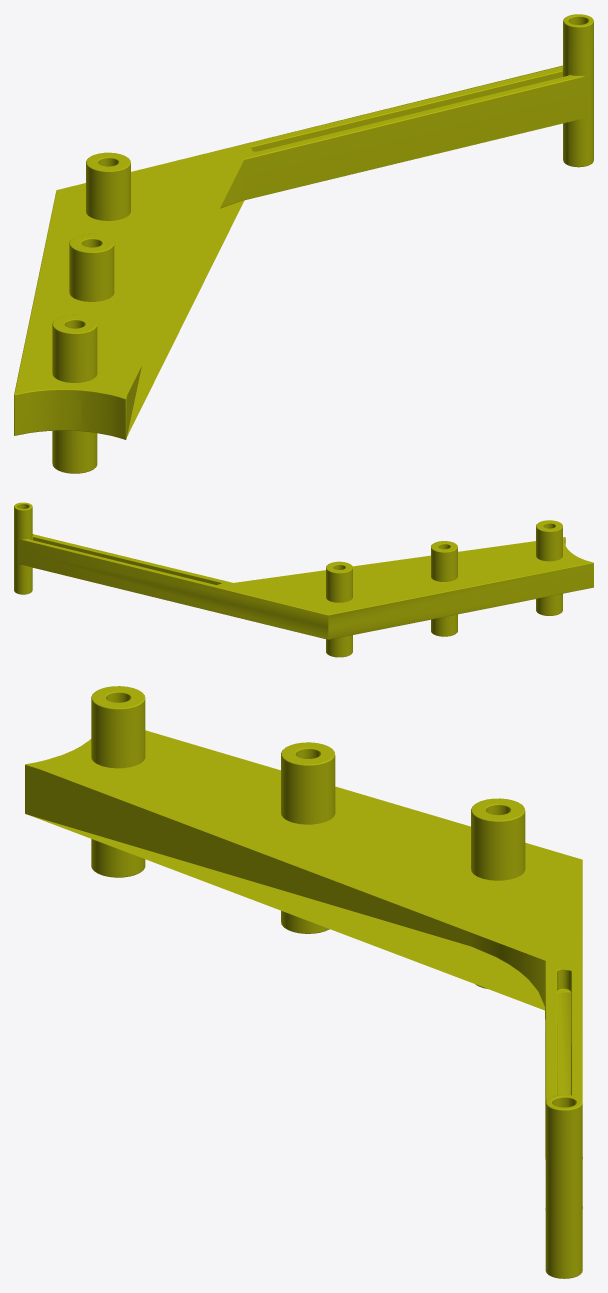
The model's file is LaneGuide_001.fbx.
The picture shows the model from 3 angles, top to bottom: view 1: azimuth 30°, elevation 25°; view 2: azimuth 150°, elevation 25°; view 3: azimuth 270°, elevation 25°; orthographic projection. The views are drawn at different scales.
Visible parts, largest first — view 1: Bottom Lane Guide - Plastic 2 Holes - DE Sega Stern.001; view 2: Bottom Lane Guide - Plastic 2 Holes - DE Sega Stern.001; view 3: Bottom Lane Guide - Plastic 2 Holes - DE Sega Stern.001.
Part boxes in pixels (box(x1,y1,x2,y2)): Bottom Lane Guide - Plastic 2 Holes - DE Sega Stern.001: box(14, 14, 593, 473); Bottom Lane Guide - Plastic 2 Holes - DE Sega Stern.001: box(14, 502, 593, 657); Bottom Lane Guide - Plastic 2 Holes - DE Sega Stern.001: box(25, 686, 582, 1278).
Bounding box in the file's own units: 4169 × 7995 × 1396.
